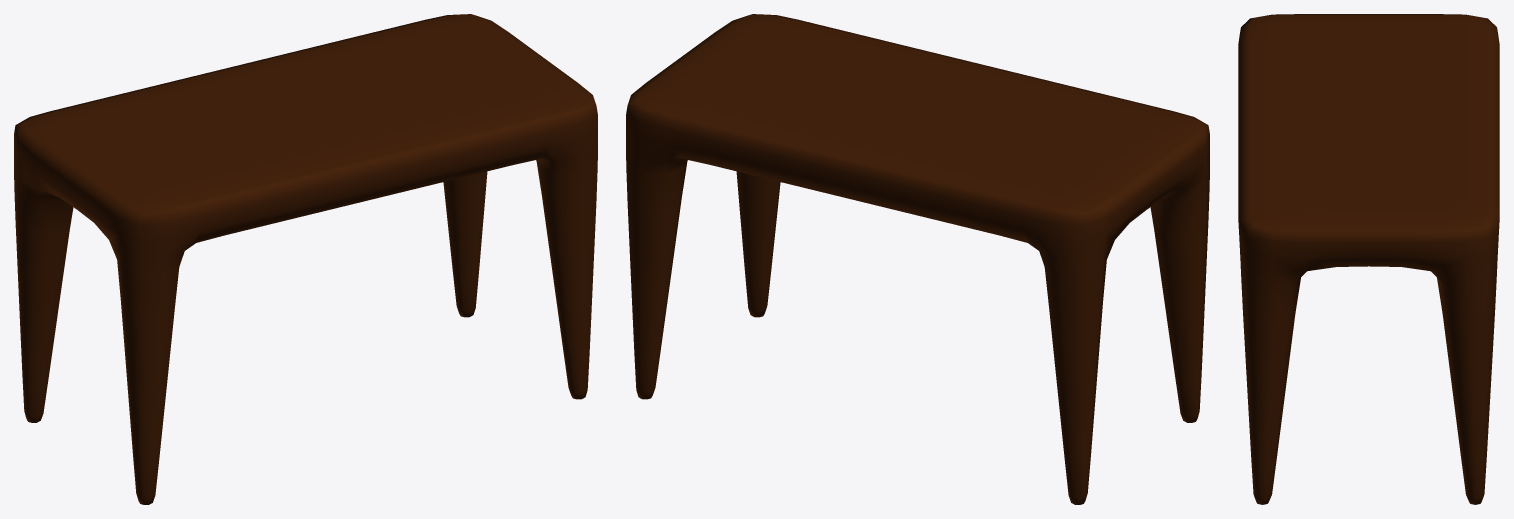
The model's file is SideTable.glb.
3 renders of one model, left to right at view 1: azimuth 30°, elevation 25°; view 2: azimuth 150°, elevation 25°; view 3: azimuth 270°, elevation 25°, orthographic. The views are drawn at different scales.
Visible parts, largest first — view 1: SideTable; view 2: SideTable; view 3: SideTable.
Part boxes in pixels (bbox=[...]): SideTable: bbox=[14, 14, 597, 504]; SideTable: bbox=[626, 14, 1209, 504]; SideTable: bbox=[1238, 14, 1499, 504].
Bounding box in the file's own units: 2 × 1.2 × 1.
